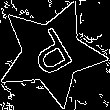P_SE: (22, 22, 80, 84)
